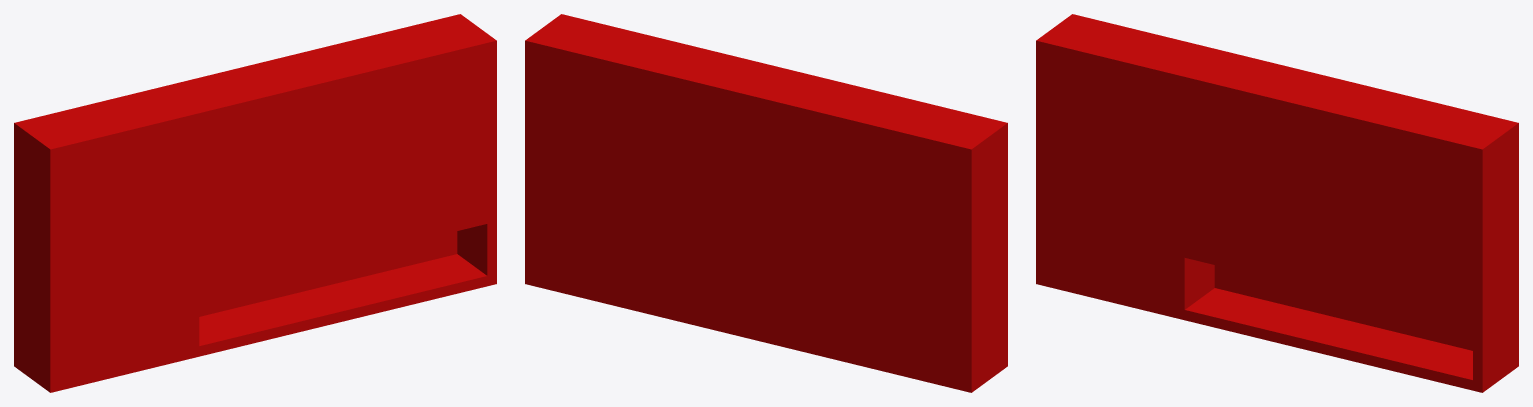
Rendered from Counter_8_Exhibition_Mid_Screen_1_Red.FBX.
3 views of the same model, side by side, from view 1: azimuth 30°, elevation 25°; view 2: azimuth 150°, elevation 25°; view 3: azimuth 330°, elevation 25° (orthographic).
Visible parts, largest first — view 1: Counter_8_Exhibition_Mid_Screen_1_Red; view 2: Counter_8_Exhibition_Mid_Screen_1_Red; view 3: Counter_8_Exhibition_Mid_Screen_1_Red.
Part boxes in pixels (<box>): Counter_8_Exhibition_Mid_Screen_1_Red: <box>14,14,496,392</box>; Counter_8_Exhibition_Mid_Screen_1_Red: <box>525,14,1007,392</box>; Counter_8_Exhibition_Mid_Screen_1_Red: <box>1036,14,1518,392</box>.
Bounding box in the file's own units: 224 × 117 × 31.6.
